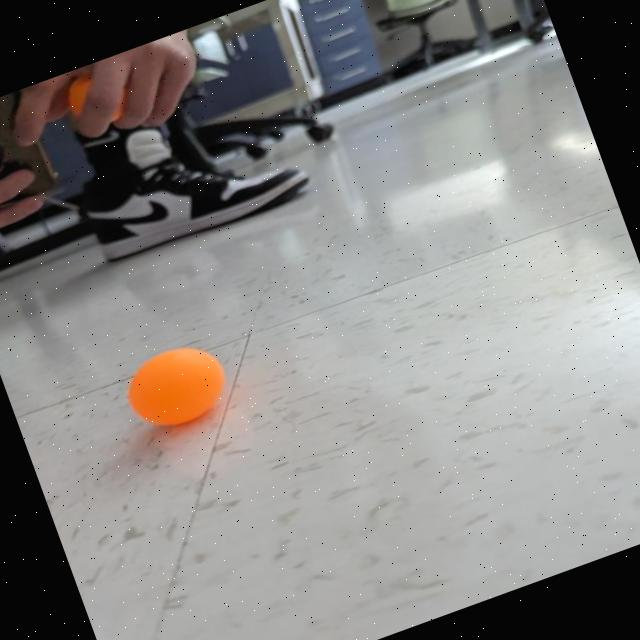ping-pong-ball: (111, 328, 244, 446)
